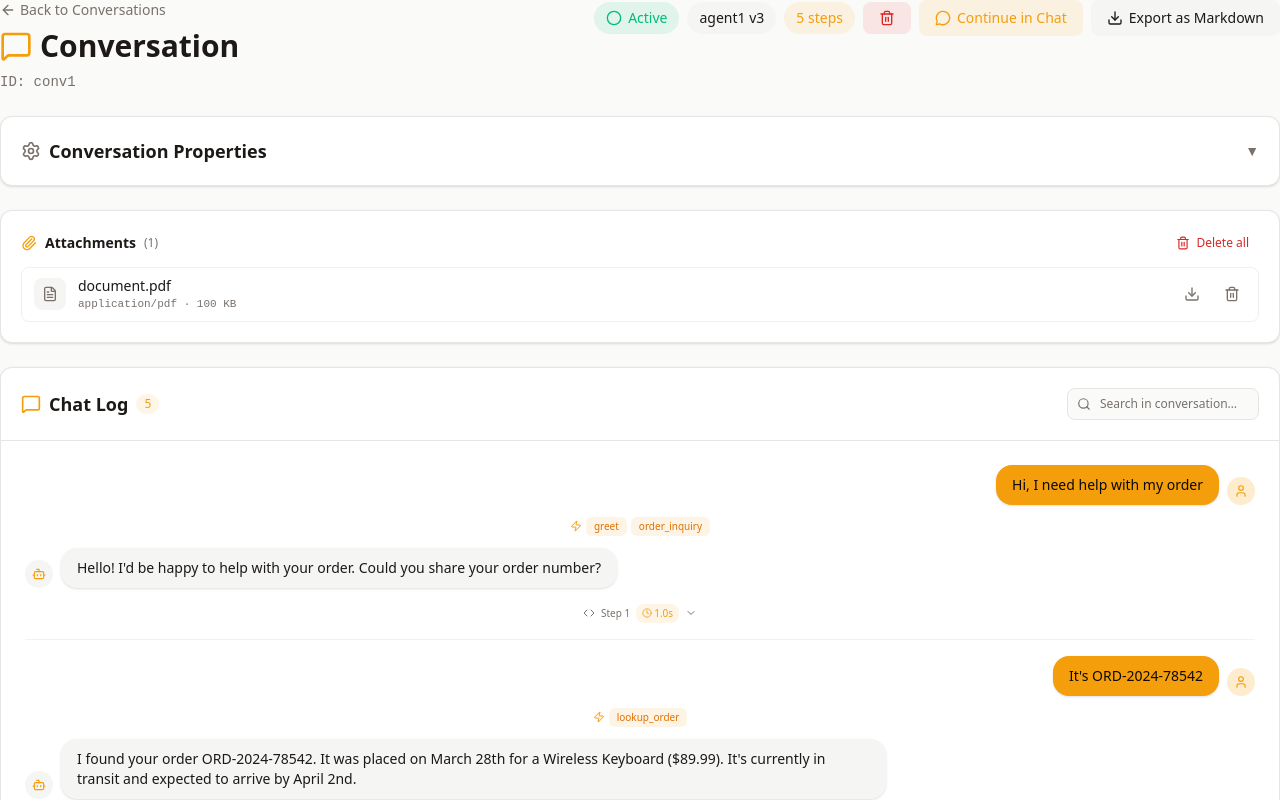
Test case: ConversationDetailPage › filters transcript by search query
Expected: the text "Hi, I need help with my order" is shown, [1012, 474, 1203, 494]
Type "delivery" into the field with test id "transcript-search".
click(1163, 404); type("delivery")  # box [1067, 388, 1259, 420]
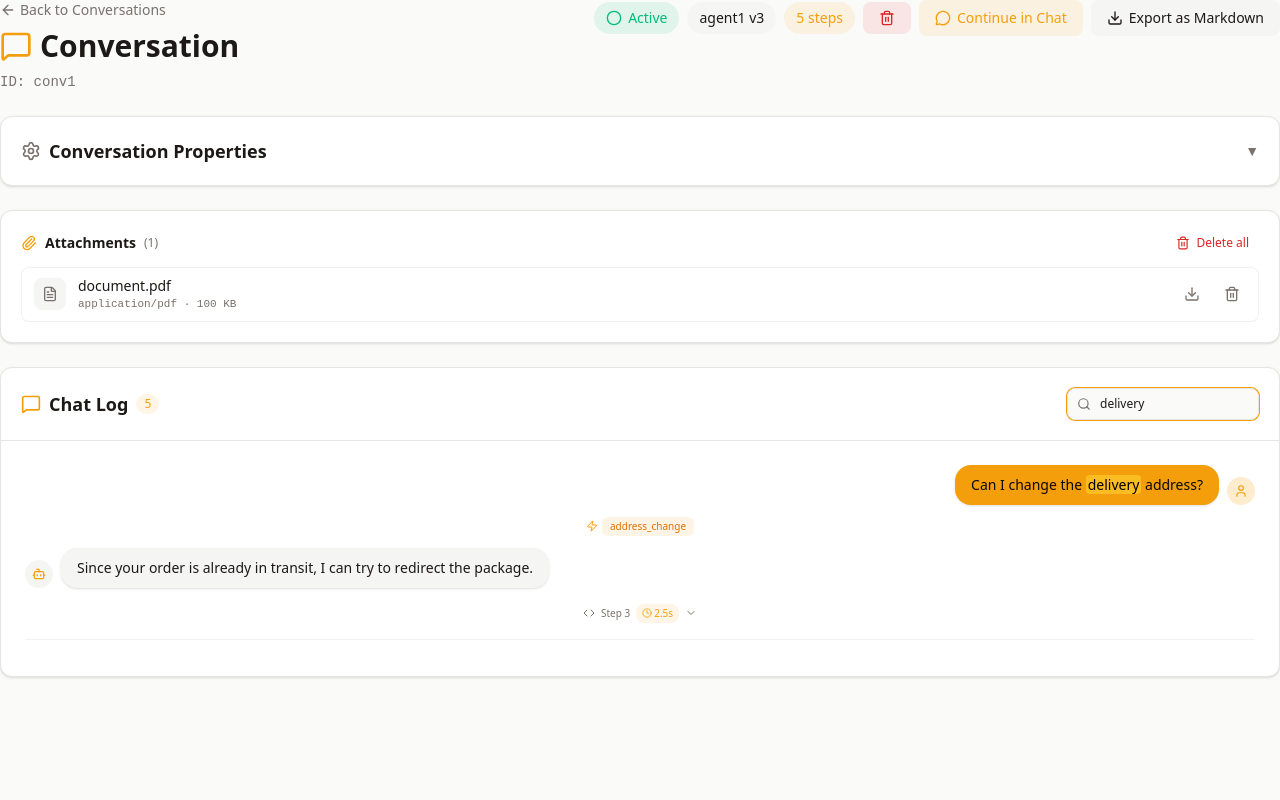
Expected: the element with test id "conversation-chat" shows "delivery", [1088, 474, 1139, 494]
Result: the text "Hi, I need help with my order" is gone
